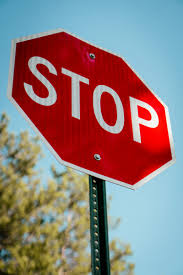Stop Signal: (4, 25, 177, 213)
